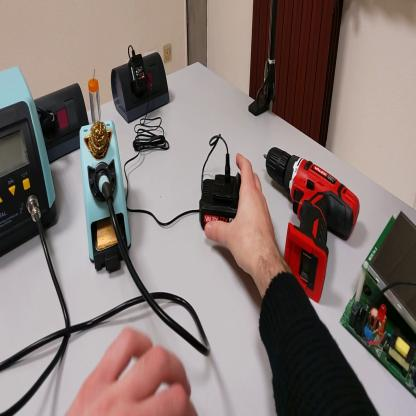electric screwdriver: (263, 143, 363, 308)
electric screwdriver battery: (199, 175, 243, 231)
hand: (66, 333, 200, 416), (205, 153, 278, 278)
low voltage board: (343, 209, 416, 397)
socket: (34, 79, 90, 166), (112, 45, 172, 123)
welder base: (78, 71, 133, 279)
welder probe tip: (95, 169, 115, 207)
welder station: (2, 57, 61, 260)
